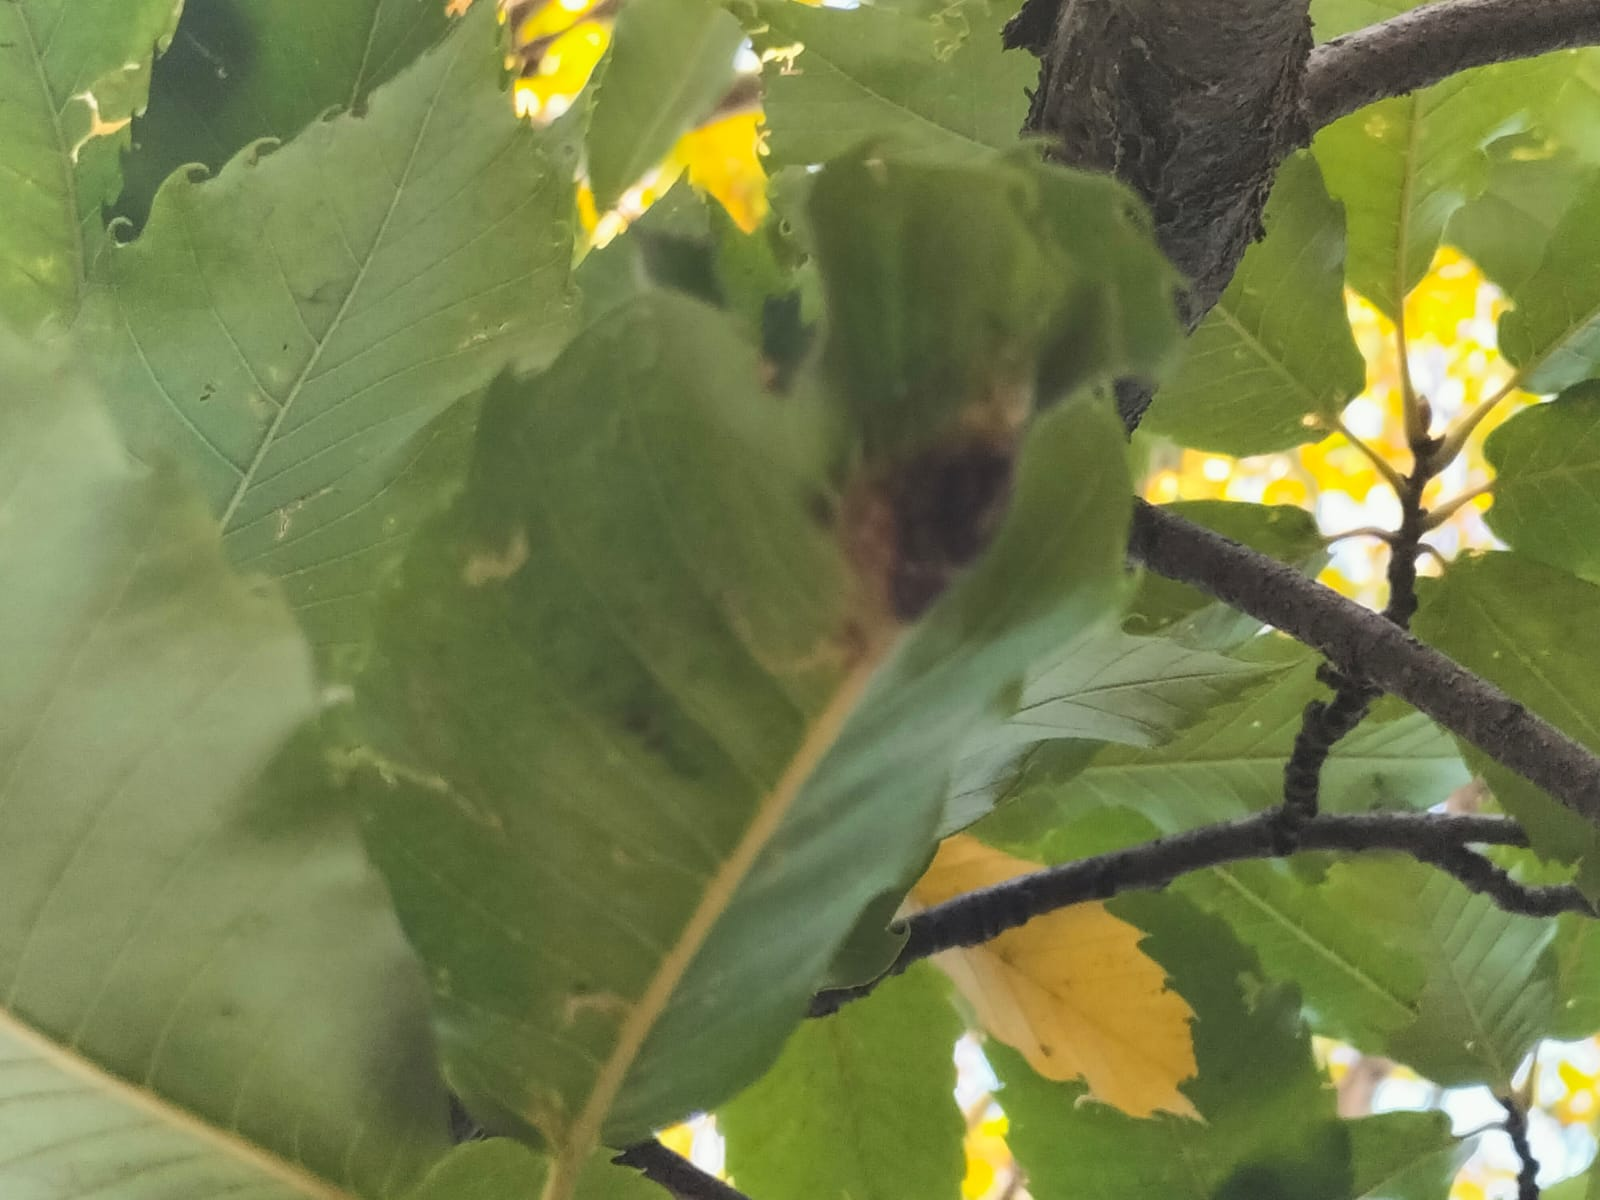galarisi: (724, 252, 1107, 695)
